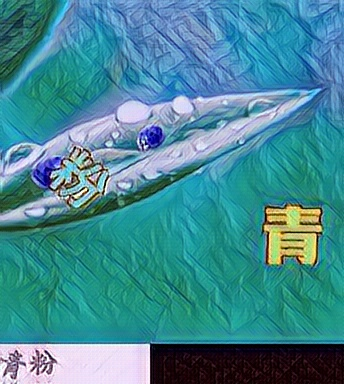B7DB: (46, 145, 111, 209)
C7E0: (258, 203, 323, 267)
